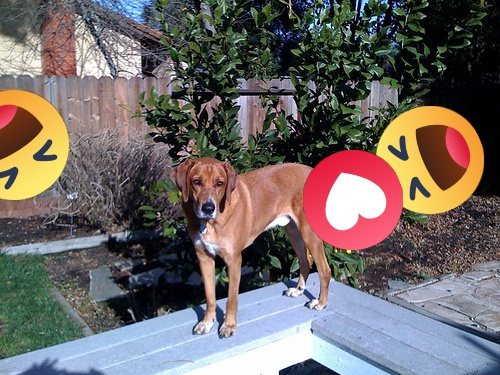haha: (376, 106, 484, 214), (0, 90, 69, 200)
love: (303, 150, 403, 250)
